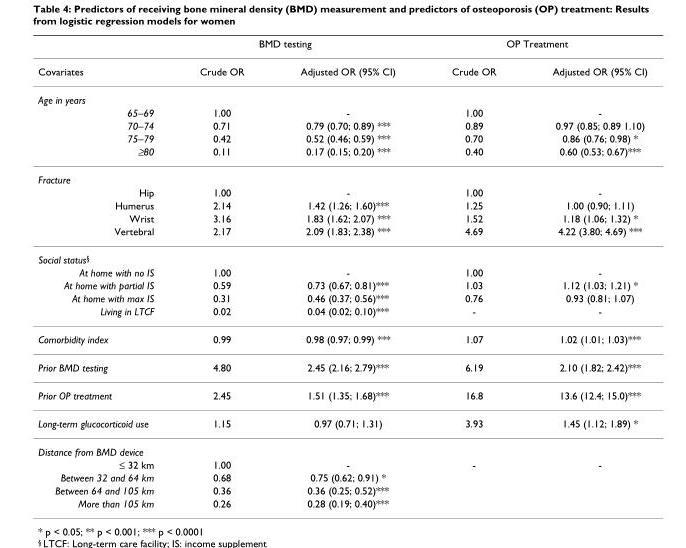table: (37, 37, 646, 508)
table column: (271, 37, 422, 508), (37, 37, 176, 508), (523, 37, 646, 508), (422, 37, 523, 508), (176, 37, 271, 508)
table column header: (37, 37, 646, 85)
table projected row header: (37, 244, 646, 265), (37, 85, 646, 105), (37, 165, 646, 185), (37, 437, 646, 457)
table row: (37, 380, 646, 409), (37, 57, 646, 85), (37, 324, 646, 352), (37, 352, 646, 380), (37, 409, 646, 437), (37, 143, 646, 165), (37, 244, 646, 265), (37, 37, 646, 57), (37, 85, 646, 105), (37, 165, 646, 185), (37, 224, 646, 244), (37, 304, 646, 324), (37, 437, 646, 457), (37, 105, 646, 118), (37, 118, 646, 131), (37, 185, 646, 198), (37, 198, 646, 211), (37, 211, 646, 224), (37, 265, 646, 278), (37, 278, 646, 291), (37, 291, 646, 304), (37, 457, 646, 470), (37, 470, 646, 483), (37, 483, 646, 496), (37, 131, 646, 143), (37, 496, 646, 508)
table spanning cell: (37, 37, 176, 85), (176, 37, 422, 57), (422, 37, 646, 57)
